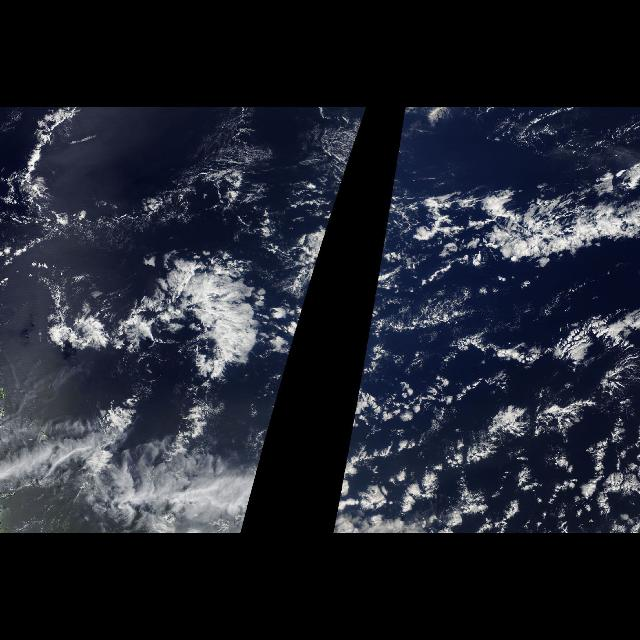Fish: (1, 108, 268, 442), (376, 152, 638, 282), (270, 152, 354, 282)
Flower: (333, 293, 639, 533)
